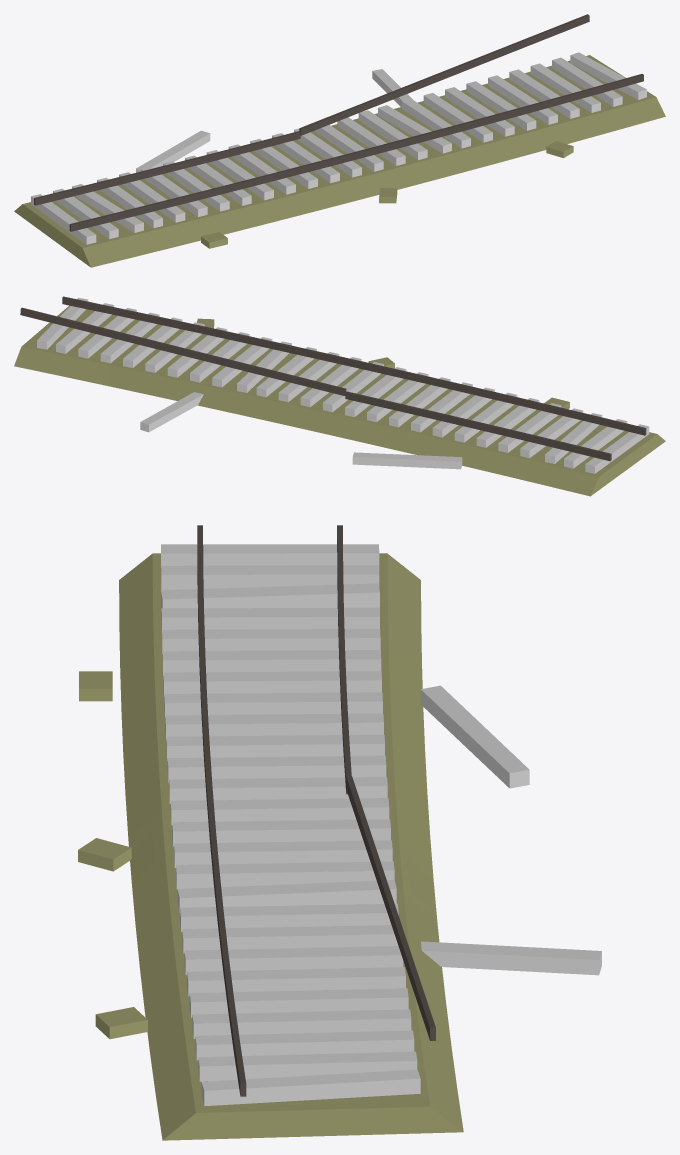
The model's file is SM_Via_CurvaR240_v4_Danada_LOD0.fbx.
The picture shows the model from 3 angles, top to bottom: view 1: azimuth 30°, elevation 25°; view 2: azimuth 150°, elevation 25°; view 3: azimuth 270°, elevation 25°; orthographic projection. The views are drawn at different scales.
Visible parts, largest first — view 1: SM_via_trazado_v24_LOD0; view 2: SM_via_trazado_v24_LOD0; view 3: SM_via_trazado_v24_LOD0.
Part boxes in pixels (x1,y1,x2,y2): SM_via_trazado_v24_LOD0: (14,14,665,267); SM_via_trazado_v24_LOD0: (14,296,665,496); SM_via_trazado_v24_LOD0: (78,525,601,1140).
Size of the model in its own units: 15.81 by 1.38 by 6.24.
